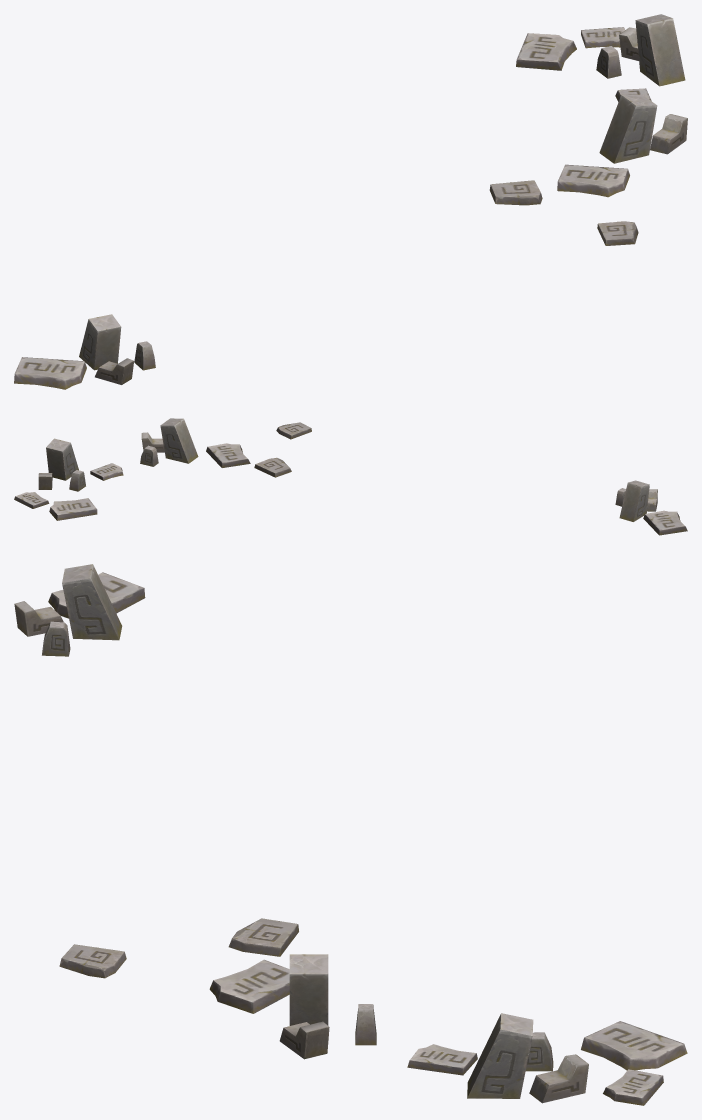
File: area_09_4.FBX
3 views of the same model, one above another, from view 1: azimuth 30°, elevation 25°; view 2: azimuth 150°, elevation 25°; view 3: azimuth 270°, elevation 25° (orthographic). The views are drawn at different scales.
Visible parts, largest first — view 1: area_09_4; view 2: area_09_4; view 3: area_09_4.
Part boxes in pixels (x1=…): area_09_4: x1=14, y1=14, x2=687, y2=389; area_09_4: x1=14, y1=418, x2=687, y2=535; area_09_4: x1=14, y1=564, x2=687, y2=1105.
Size of the model in its own units: 21.3 by 1.37 by 11.54.
